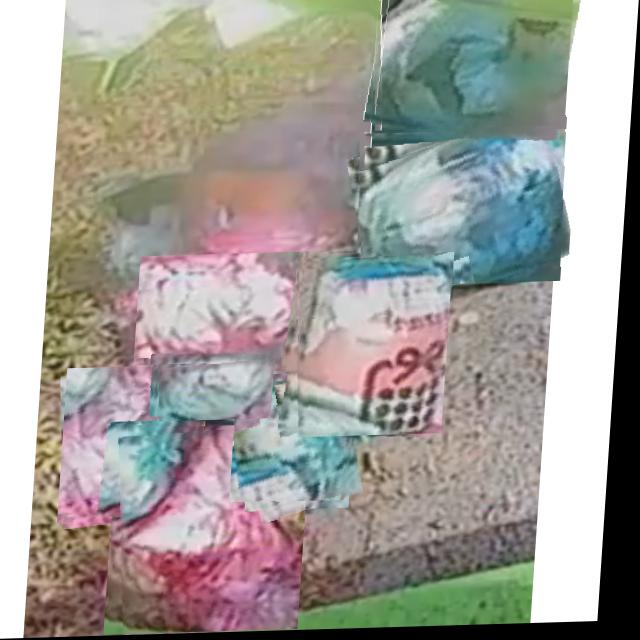general_trashbag: (301, 259, 454, 436)
other_trashbag: (126, 432, 309, 634), (360, 122, 573, 289), (374, 0, 570, 131), (69, 367, 206, 520), (142, 255, 309, 373), (240, 387, 358, 503), (164, 362, 279, 421)
